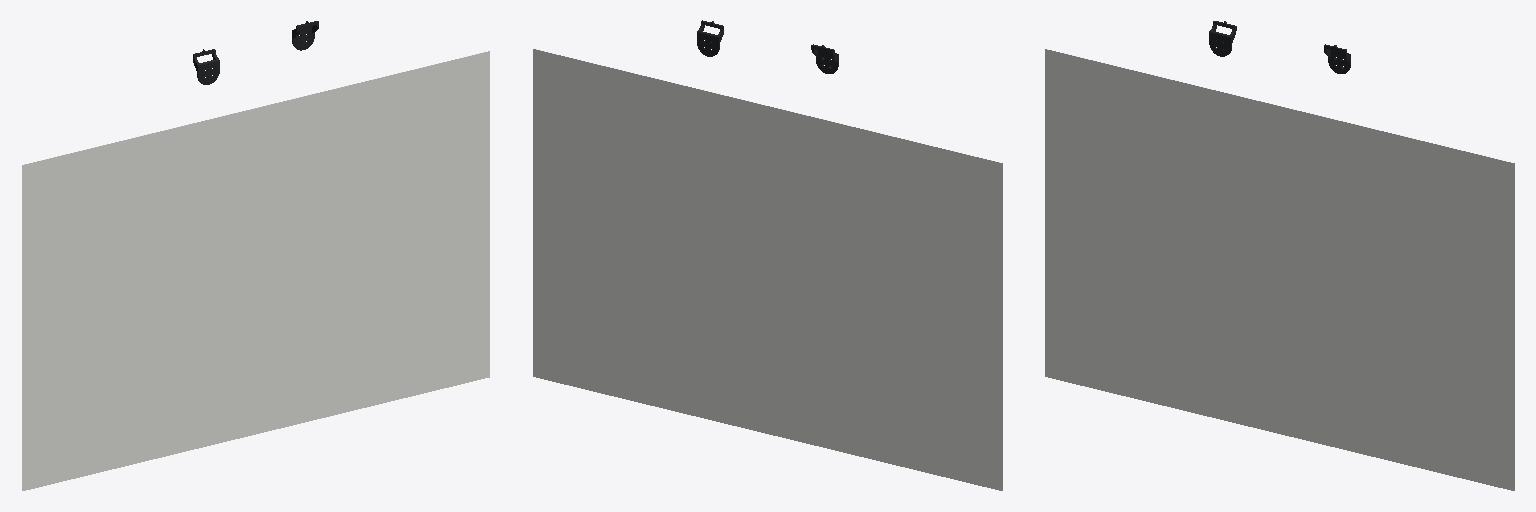
The robot description file, URDF, robot "dual_arm":
<?xml version="1.0" ?>
<!-- =================================================================================== -->
<!-- |    This document was autogenerated by xacro from [local-path]/cws/abb_pointers/src/abb_dual_arm/abb_irb120_support/urdf/dual_arm.xacro | -->
<!-- |    EDITING THIS FILE BY HAND IS NOT RECOMMENDED                                 | -->
<!-- =================================================================================== -->
<robot name="dual_arm">
  <!-- Conversion were obtained from http://www.e-paint.co.uk/Lab_values.asp
       unless otherwise stated. -->
  <!-- World Link -->
  <link name="world">
    <visual>
      <origin rpy="0 0 0" xyz="0 0 0"/>
      <geometry>
        <mesh filename="package://abb_irb120_support/meshes/irb120_3_58/visual/ground_plane.stl" scale="0.001 0.001 0.001"/>
      </geometry>
      <material name="">
        <color rgba="0.9254902 0.9254902 0.9058824 1"/>
      </material>
    </visual>
    <collision>
      <origin rpy="0 0 0" xyz="0 0 0"/>
      <geometry>
        <mesh filename="package://abb_irb120_support/meshes/irb120_3_58/collision/ground_plane.stl" scale="0.001 0.001 0.001"/>
      </geometry>
    </collision>
  </link>
  <!-- Arm 1 Links -->
  <link name="base_link">
    <inertial>
      <mass value="6.215"/>
      <origin rpy="0 0 0" xyz="-0.04204 8.01E-05 0.07964"/>
      <inertia ixx="0.0247272" ixy="-8.0784E-05" ixz="0.00130902" iyy="0.0491285" iyz="-8.0419E-06" izz="0.0472376"/>
    </inertial>
    <visual>
      <origin rpy="0 0 0" xyz="0 0 0"/>
      <geometry>
        <mesh filename="package://abb_irb120_support/meshes/irb120_3_58/visual/base_link.stl"/>
      </geometry>
      <material name="">
        <color rgba="0.7372549 0.3490196 0.1607843 1"/>
      </material>
    </visual>
    <collision>
      <origin rpy="0 0 0" xyz="0 0 0"/>
      <geometry>
        <mesh filename="package://abb_irb120_support/meshes/irb120_3_58/collision/base_link.stl"/>
      </geometry>
      <material name="">
        <color rgba="1 1 0 1"/>
      </material>
    </collision>
  </link>
  <link name="link_1">
    <inertial>
      <mass value="3.067"/>
      <origin rpy="0 0 0" xyz="9.77E-05 -0.00012 0.23841"/>
      <inertia ixx="0.0142175" ixy="-1.28579E-05" ixz="-2.31364E-05" iyy="0.0144041" iyz="1.93404E-05" izz="0.0104533"/>
    </inertial>
    <visual>
      <origin rpy="0 0 0" xyz="0 0 0"/>
      <geometry>
        <mesh filename="package://abb_irb120_support/meshes/irb120_3_58/visual/link_1.stl"/>
      </geometry>
      <material name="">
        <color rgba="0.7372549 0.3490196 0.1607843 1"/>
      </material>
    </visual>
    <collision>
      <origin rpy="0 0 0" xyz="0 0 0"/>
      <geometry>
        <mesh filename="package://abb_irb120_support/meshes/irb120_3_58/collision/link_1.stl"/>
      </geometry>
      <material name="">
        <color rgba="1 1 0 1"/>
      </material>
    </collision>
  </link>
  <link name="link_2">
    <inertial>
      <mass value="3.909"/>
      <origin rpy="0 0 0" xyz="0.00078 -0.00212 0.10124"/>
      <inertia ixx="0.0603111" ixy="9.83431E-06" ixz="5.72407E-05" iyy="0.041569" iyz="-0.00050497" izz="0.0259548"/>
    </inertial>
    <visual>
      <origin rpy="0 0 0" xyz="0 0 0"/>
      <geometry>
        <mesh filename="package://abb_irb120_support/meshes/irb120_3_58/visual/link_2.stl"/>
      </geometry>
      <material name="">
        <color rgba="0.7372549 0.3490196 0.1607843 1"/>
      </material>
    </visual>
    <collision>
      <origin rpy="0 0 0" xyz="0 0 0"/>
      <geometry>
        <mesh filename="package://abb_irb120_support/meshes/irb120_3_58/collision/link_2.stl"/>
      </geometry>
      <material name="">
        <color rgba="1 1 0 1"/>
      </material>
    </collision>
  </link>
  <link name="link_3">
    <inertial>
      <mass value="2.944"/>
      <origin rpy="0 0 0" xyz="0.02281 0.00106 0.05791"/>
      <inertia ixx="0.00835606" ixy="-8.01545E-05" ixz="0.00142884" iyy="0.016713" iyz="-0.000182227" izz="0.0126984"/>
    </inertial>
    <visual>
      <origin rpy="0 0 0" xyz="0 0 0"/>
      <geometry>
        <mesh filename="package://abb_irb120_support/meshes/irb120_3_58/visual/link_3.stl"/>
      </geometry>
      <material name="">
        <color rgba="0.7372549 0.3490196 0.1607843 1"/>
      </material>
    </visual>
    <collision>
      <origin rpy="0 0 0" xyz="0 0 0"/>
      <geometry>
        <mesh filename="package://abb_irb120_support/meshes/irb120_3_58/collision/link_3.stl"/>
      </geometry>
      <material name="">
        <color rgba="1 1 0 1"/>
      </material>
    </collision>
  </link>
  <link name="link_4">
    <inertial>
      <mass value="1.328"/>
      <origin rpy="0 0 0" xyz="0.2247 0.00015 0.00041"/>
      <inertia ixx="0.00284661" ixy="-2.12765E-05" ixz="-1.6435E-05" iyy="0.00401346" iyz="1.31336E-05" izz="0.0052535"/>
    </inertial>
    <visual>
      <origin rpy="0 0 0" xyz="0 0 0"/>
      <geometry>
        <mesh filename="package://abb_irb120_support/meshes/irb120_3_58/visual/link_4.stl"/>
      </geometry>
      <material name="">
        <color rgba="0.7372549 0.3490196 0.1607843 1"/>
      </material>
    </visual>
    <collision>
      <origin rpy="0 0 0" xyz="0 0 0"/>
      <geometry>
        <mesh filename="package://abb_irb120_support/meshes/irb120_3_58/collision/link_4.stl"/>
      </geometry>
      <material name="">
        <color rgba="1 1 0 1"/>
      </material>
    </collision>
  </link>
  <link name="link_5">
    <inertial>
      <mass value="0.546"/>
      <origin rpy="0 0 0" xyz="-0.00109 3.68E-05 6.22E-05"/>
      <inertia ixx="0.000404891" ixy="1.61943E-06" ixz="8.46805E-07" iyy="0.000892825" iyz="-1.51792E-08" izz="0.000815468"/>
    </inertial>
    <visual>
      <origin rpy="0 0 0" xyz="0 0 0"/>
      <geometry>
        <mesh filename="package://abb_irb120_support/meshes/irb120_3_58/visual/link_5.stl"/>
      </geometry>
      <material name="">
        <color rgba="0.7372549 0.3490196 0.1607843 1"/>
      </material>
    </visual>
    <collision>
      <origin rpy="0 0 0" xyz="0 0 0"/>
      <geometry>
        <mesh filename="package://abb_irb120_support/meshes/irb120_3_58/collision/link_5.stl"/>
      </geometry>
      <material name="">
        <color rgba="1 1 0 1"/>
      </material>
    </collision>
  </link>
  <link name="link_6">
    <inertial>
      <mass value="0.137"/>
      <origin rpy="0 0 0" xyz="-0.00706 -0.00017 -1.32E-06"/>
      <inertia ixx="0.001" ixy="0" ixz="0" iyy="0.001" iyz="0" izz="0.001"/>
    </inertial>
    <visual>
      <origin rpy="0 0 0" xyz="0 0 0"/>
      <geometry>
        <mesh filename="package://abb_irb120_support/meshes/irb120_3_58/visual/link_6.stl"/>
      </geometry>
      <material name="">
        <color rgba="0.1882353 0.1960784 0.2039216 1"/>
      </material>
    </visual>
    <collision>
      <origin rpy="0 0 0" xyz="0 0 0"/>
      <geometry>
        <mesh filename="package://abb_irb120_support/meshes/irb120_3_58/collision/link_6.stl"/>
      </geometry>
      <material name="">
        <color rgba="1 1 0 1"/>
      </material>
    </collision>
  </link>
  <!-- Arm 2 Links -->
  <link name="base_link_m">
    <inertial>
      <mass value="6.215"/>
      <origin rpy="0 0 0" xyz="-0.04204 8.01E-05 0.07964"/>
      <inertia ixx="0.0247272" ixy="-8.0784E-05" ixz="0.00130902" iyy="0.0491285" iyz="-8.0419E-06" izz="0.0472376"/>
    </inertial>
    <visual>
      <origin rpy="0 0 3.141592653589793" xyz="0 0 0"/>
      <geometry>
        <mesh filename="package://abb_irb120_support/meshes/irb120_3_58/visual/base_link.stl"/>
      </geometry>
      <material name="">
        <color rgba="0.7372549 0.3490196 0.1607843 1"/>
      </material>
    </visual>
    <collision>
      <origin rpy="0 0 3.141592653589793" xyz="0 0 0"/>
      <geometry>
        <mesh filename="package://abb_irb120_support/meshes/irb120_3_58/collision/base_link.stl"/>
      </geometry>
      <material name="">
        <color rgba="1 1 0 1"/>
      </material>
    </collision>
  </link>
  <link name="link_1_m">
    <inertial>
      <mass value="3.067"/>
      <origin rpy="0 0 0" xyz="9.77E-05 -0.00012 0.23841"/>
      <inertia ixx="0.0142175" ixy="-1.28579E-05" ixz="-2.31364E-05" iyy="0.0144041" iyz="1.93404E-05" izz="0.0104533"/>
    </inertial>
    <visual>
      <origin rpy="0 0 3.141592653589793" xyz="0 0 0"/>
      <geometry>
        <mesh filename="package://abb_irb120_support/meshes/irb120_3_58/visual/link_1.stl"/>
      </geometry>
      <material name="">
        <color rgba="0.7372549 0.3490196 0.1607843 1"/>
      </material>
    </visual>
    <collision>
      <origin rpy="0 0 3.141592653589793" xyz="0 0 0"/>
      <geometry>
        <mesh filename="package://abb_irb120_support/meshes/irb120_3_58/collision/link_1.stl"/>
      </geometry>
      <material name="">
        <color rgba="1 1 0 1"/>
      </material>
    </collision>
  </link>
  <link name="link_2_m">
    <inertial>
      <mass value="3.909"/>
      <origin rpy="0 0 0" xyz="0.00078 -0.00212 0.10124"/>
      <inertia ixx="0.0603111" ixy="9.83431E-06" ixz="5.72407E-05" iyy="0.041569" iyz="-0.00050497" izz="0.0259548"/>
    </inertial>
    <visual>
      <origin rpy="0 0 3.141592653589793" xyz="0 0 0"/>
      <geometry>
        <mesh filename="package://abb_irb120_support/meshes/irb120_3_58/visual/link_2.stl"/>
      </geometry>
      <material name="">
        <color rgba="0.7372549 0.3490196 0.1607843 1"/>
      </material>
    </visual>
    <collision>
      <origin rpy="0 0 3.141592653589793" xyz="0 0 0"/>
      <geometry>
        <mesh filename="package://abb_irb120_support/meshes/irb120_3_58/collision/link_2.stl"/>
      </geometry>
      <material name="">
        <color rgba="1 1 0 1"/>
      </material>
    </collision>
  </link>
  <link name="link_3_m">
    <inertial>
      <mass value="2.944"/>
      <origin rpy="0 0 0" xyz="0.02281 0.00106 0.05791"/>
      <inertia ixx="0.00835606" ixy="-8.01545E-05" ixz="0.00142884" iyy="0.016713" iyz="-0.000182227" izz="0.0126984"/>
    </inertial>
    <visual>
      <origin rpy="0 0 3.141592653589793" xyz="0 0 0"/>
      <geometry>
        <mesh filename="package://abb_irb120_support/meshes/irb120_3_58/visual/link_3.stl"/>
      </geometry>
      <material name="">
        <color rgba="0.7372549 0.3490196 0.1607843 1"/>
      </material>
    </visual>
    <collision>
      <origin rpy="0 0 3.141592653589793" xyz="0 0 0"/>
      <geometry>
        <mesh filename="package://abb_irb120_support/meshes/irb120_3_58/collision/link_3.stl"/>
      </geometry>
      <material name="">
        <color rgba="1 1 0 1"/>
      </material>
    </collision>
  </link>
  <link name="link_4_m">
    <inertial>
      <mass value="1.328"/>
      <origin rpy="0 0 0" xyz="2.2247 0.00015 0.00041"/>
      <inertia ixx="0.00284661" ixy="-2.12765E-05" ixz="-1.6435E-05" iyy="0.00401346" iyz="1.31336E-05" izz="0.0052535"/>
    </inertial>
    <visual>
      <origin rpy="0 0 3.141592653589793" xyz="0 0 0"/>
      <geometry>
        <mesh filename="package://abb_irb120_support/meshes/irb120_3_58/visual/link_4.stl"/>
      </geometry>
      <material name="">
        <color rgba="0.7372549 0.3490196 0.1607843 1"/>
      </material>
    </visual>
    <collision>
      <origin rpy="0 0 3.141592653589793" xyz="0 0 0"/>
      <geometry>
        <mesh filename="package://abb_irb120_support/meshes/irb120_3_58/collision/link_4.stl"/>
      </geometry>
      <material name="">
        <color rgba="1 1 0 1"/>
      </material>
    </collision>
  </link>
  <link name="link_5_m">
    <inertial>
      <mass value="0.546"/>
      <origin rpy="0 0 0" xyz="-0.60109 3.68E-05 6.22E-05"/>
      <inertia ixx="0.000404891" ixy="1.61943E-06" ixz="8.46805E-07" iyy="0.000892825" iyz="-1.51792E-08" izz="0.000815468"/>
    </inertial>
    <visual>
      <origin rpy="0 0 3.141592653589793" xyz="0 0 0"/>
      <geometry>
        <mesh filename="package://abb_irb120_support/meshes/irb120_3_58/visual/link_5.stl"/>
      </geometry>
      <material name="">
        <color rgba="0.7372549 0.3490196 0.1607843 1"/>
      </material>
    </visual>
    <collision>
      <origin rpy="0 0 3.141592653589793" xyz="0 0 0"/>
      <geometry>
        <mesh filename="package://abb_irb120_support/meshes/irb120_3_58/collision/link_5.stl"/>
      </geometry>
      <material name="">
        <color rgba="1 1 0 1"/>
      </material>
    </collision>
  </link>
  <link name="link_6_m">
    <inertial>
      <mass value="0.137"/>
      <origin rpy="0 0 0" xyz="-0.00706 -0.00017 -1.32E-06"/>
      <inertia ixx="0.001" ixy="0" ixz="0" iyy="0.001" iyz="0" izz="0.001"/>
    </inertial>
    <visual>
      <origin rpy="0 0 3.141592653589793" xyz="0 0 0"/>
      <geometry>
        <mesh filename="package://abb_irb120_support/meshes/irb120_3_58/visual/link_6.stl"/>
      </geometry>
      <material name="">
        <color rgba="0.1882353 0.1960784 0.2039216 1"/>
      </material>
    </visual>
    <collision>
      <origin rpy="0 0 3.141592653589793" xyz="0 0 0"/>
      <geometry>
        <mesh filename="package://abb_irb120_support/meshes/irb120_3_58/collision/link_6.stl"/>
      </geometry>
      <material name="">
        <color rgba="1 1 0 1"/>
      </material>
    </collision>
  </link>
  <!-- Pointer Links -->
  <link name="pointer">
    <inertial>
      <mass value="0.137"/>
      <origin rpy="0 0 0" xyz="0 0 0"/>
      <inertia ixx="0.001" ixy="0" ixz="0" iyy="0.001" iyz="0" izz="0.001"/>
    </inertial>
    <visual>
      <origin rpy="0 3.14159265 -1.5708" xyz="0 0 0"/>
      <geometry>
        <mesh filename="package://abb_irb120_support/meshes/irb120_3_58/visual/ABB_pointer.stl" scale="0.001 0.001 0.001"/>
      </geometry>
      <material name="">
        <color rgba="0.1882353 0.1960784 0.2039216 1"/>
      </material>
    </visual>
    <collision>
      <origin rpy="0 3.14159265 -1.5708" xyz="0 0 0"/>
      <geometry>
        <mesh filename="package://abb_irb120_support/meshes/irb120_3_58/collision/ABB_pointer.stl" scale="0.001 0.001 0.001"/>
      </geometry>
      <material name="">
        <color rgba="1 1 0 1"/>
      </material>
    </collision>
  </link>
  <link name="pointer_m">
    <inertial>
      <mass value="0.137"/>
      <origin rpy="0 0 0" xyz="-0.00706 -0.00017 -1.32E-06"/>
      <inertia ixx="0.001" ixy="0" ixz="0" iyy="0.001" iyz="0" izz="0.001"/>
    </inertial>
    <visual>
      <origin rpy="3.14159265 0 -1.5708" xyz="0 0 0"/>
      <geometry>
        <mesh filename="package://abb_irb120_support/meshes/irb120_3_58/visual/ABB_pointer.stl" scale="0.001 0.001 0.001"/>
      </geometry>
      <material name="">
        <color rgba="0.1882353 0.1960784 0.2039216 1"/>
      </material>
    </visual>
    <collision>
      <origin rpy="3.14159265 0 -1.5708" xyz="0 0 0"/>
      <geometry>
        <mesh filename="package://abb_irb120_support/meshes/irb120_3_58/collision/ABB_pointer.stl" scale="0.001 0.001 0.001"/>
      </geometry>
      <material name="">
        <color rgba="1 1 0 1"/>
      </material>
    </collision>
  </link>
  <!-- Arm 1 Joints -->
  <joint name="joint_2" type="revolute">
    <origin rpy="0 0 0" xyz="0 0 0"/>
    <parent link="base_link"/>
    <child link="link_1"/>
    <limit effort="0" lower="-2.87979" upper="2.87979" velocity="4.36332"/>
    <axis xyz="0 0 1"/>
    <dynamics damping="0.0" friction="0.0"/>
  </joint>
  <joint name="joint_3" type="revolute">
    <origin rpy="0 0 0" xyz="0 0 0.29"/>
    <parent link="link_1"/>
    <child link="link_2"/>
    <limit effort="0" lower="-1.91986" upper="1.91986" velocity="4.36332"/>
    <axis xyz="0 1 0"/>
    <dynamics damping="0.0" friction="0.0"/>
  </joint>
  <joint name="joint_4" type="revolute">
    <origin rpy="0 0 0" xyz="0 0 0.27"/>
    <parent link="link_2"/>
    <child link="link_3"/>
    <limit effort="0" lower="-1.91986" upper="1.22173" velocity="4.36332"/>
    <axis xyz="0 1 0"/>
    <dynamics damping="0.0" friction="0.0"/>
  </joint>
  <joint name="joint_5" type="revolute">
    <origin rpy="0 0 0" xyz="0 0 0.07"/>
    <parent link="link_3"/>
    <child link="link_4"/>
    <limit effort="0" lower="-2.79253" upper="2.79253" velocity="5.58505"/>
    <axis xyz="1 0 0"/>
    <dynamics damping="0.0" friction="0.0"/>
  </joint>
  <joint name="joint_6" type="revolute">
    <origin rpy="0 0 0" xyz="0.302 0 0"/>
    <parent link="link_4"/>
    <child link="link_5"/>
    <limit effort="0" lower="-2.094395" upper="2.094395" velocity="5.58505"/>
    <axis xyz="0 1 0"/>
    <dynamics damping="0.0" friction="0.0"/>
  </joint>
  <joint name="joint_7" type="revolute">
    <origin rpy="0 0 0" xyz="0.072 0 0"/>
    <parent link="link_5"/>
    <child link="link_6"/>
    <limit effort="0" lower="-6.98132" upper="6.98132" velocity="7.33038"/>
    <axis xyz="1 0 0"/>
    <dynamics damping="0.0" friction="0.0"/>
  </joint>
  <!-- Arm 2 Joints -->
  <joint name="joint_2_m" type="revolute">
    <origin rpy="0 0 0" xyz="0 0 0"/>
    <parent link="base_link_m"/>
    <child link="link_1_m"/>
    <limit effort="0" lower="-2.87979" upper="2.87979" velocity="4.36332"/>
    <axis xyz="0 0 1"/>
    <dynamics damping="0.0" friction="0.0"/>
  </joint>
  <joint name="joint_3_m" type="revolute">
    <origin rpy="0 0 0" xyz="0 0 0.29"/>
    <parent link="link_1_m"/>
    <child link="link_2_m"/>
    <limit effort="0" lower="-1.91986" upper="1.91986" velocity="4.36332"/>
    <axis xyz="0 -1 0"/>
    <dynamics damping="0.0" friction="0.0"/>
  </joint>
  <joint name="joint_4_m" type="revolute">
    <origin rpy="0 0 0" xyz="0 0 0.27"/>
    <parent link="link_2_m"/>
    <child link="link_3_m"/>
    <limit effort="0" lower="-1.91986" upper="1.22173" velocity="4.36332"/>
    <axis xyz="0 -1 0"/>
    <dynamics damping="0.0" friction="0.0"/>
  </joint>
  <joint name="joint_5_m" type="revolute">
    <origin rpy="0 0 0" xyz="0 0 0.07"/>
    <parent link="link_3_m"/>
    <child link="link_4_m"/>
    <limit effort="0" lower="-2.79253" upper="2.79253" velocity="5.58505"/>
    <axis xyz="-1 0 0"/>
    <dynamics damping="0.0" friction="0.0"/>
  </joint>
  <joint name="joint_6_m" type="revolute">
    <origin rpy="0 0 0" xyz="-0.302 0 0"/>
    <parent link="link_4_m"/>
    <child link="link_5_m"/>
    <limit effort="0" lower="-2.094395" upper="2.094395" velocity="5.58505"/>
    <axis xyz="0 -1 0"/>
    <dynamics damping="0.0" friction="0.0"/>
  </joint>
  <joint name="joint_7_m" type="revolute">
    <origin rpy="0 0 0" xyz="-0.072 0 0"/>
    <parent link="link_5_m"/>
    <child link="link_6_m"/>
    <limit effort="0" lower="-6.98132" upper="6.98132" velocity="7.33038"/>
    <axis xyz="-1 0 0"/>
    <dynamics damping="0.0" friction="0.0"/>
  </joint>
  <!-- Pointer Joints -->
  <joint name="pointer_joint" type="fixed">
    <origin rpy="0 0 0" xyz="0 -0.035 0.03"/>
    <parent link="link_6"/>
    <child link="pointer"/>
  </joint>
  <joint name="pointer_joint_m" type="fixed">
    <origin rpy="0 0 0" xyz="0 0.035 0.03"/>
    <parent link="link_6_m"/>
    <child link="pointer_m"/>
  </joint>
  <!-- World Joints -->
  <joint name="world-base_link" type="fixed">
    <origin rpy="0 0 0" xyz="-0.545 0 0"/>
    <parent link="world"/>
    <child link="base_link"/>
  </joint>
  <joint name="world-base_link_m" type="fixed">
    <origin rpy="0 0 0" xyz="0.545 0 0"/>
    <parent link="world"/>
    <child link="base_link_m"/>
  </joint>
</robot>

--- Render facts (derived) ---
Views: 3 orthographic renders of the robot side by side, from view 1: azimuth 30°, elevation 25°; view 2: azimuth 150°, elevation 25°; view 3: azimuth 330°, elevation 25°.
Model dual_arm with 17 links and 16 joints (12 revolute, 4 fixed), rooted at world, posed every joint at zero.
Visible links, largest first — view 1: world, pointer, pointer_m; view 2: world, pointer_m, pointer; view 3: world, pointer, pointer_m.
Link boxes in pixels (<box>): world: <box>22,51,489,490</box>; pointer: <box>193,49,219,84</box>; pointer_m: <box>292,21,318,50</box>; world: <box>533,49,1002,490</box>; pointer_m: <box>697,20,723,56</box>; pointer: <box>811,44,838,73</box>; world: <box>1045,49,1514,490</box>; pointer: <box>1209,21,1236,56</box>; pointer_m: <box>1324,44,1350,73</box>.
Size in the robot's own frame: 1.5 by 0.07 by 1.22 metres.
3 mesh visuals loaded from 9 distinct referenced files (2 binary STL); not drawn: 14 (reference not matched to a file when rendering).